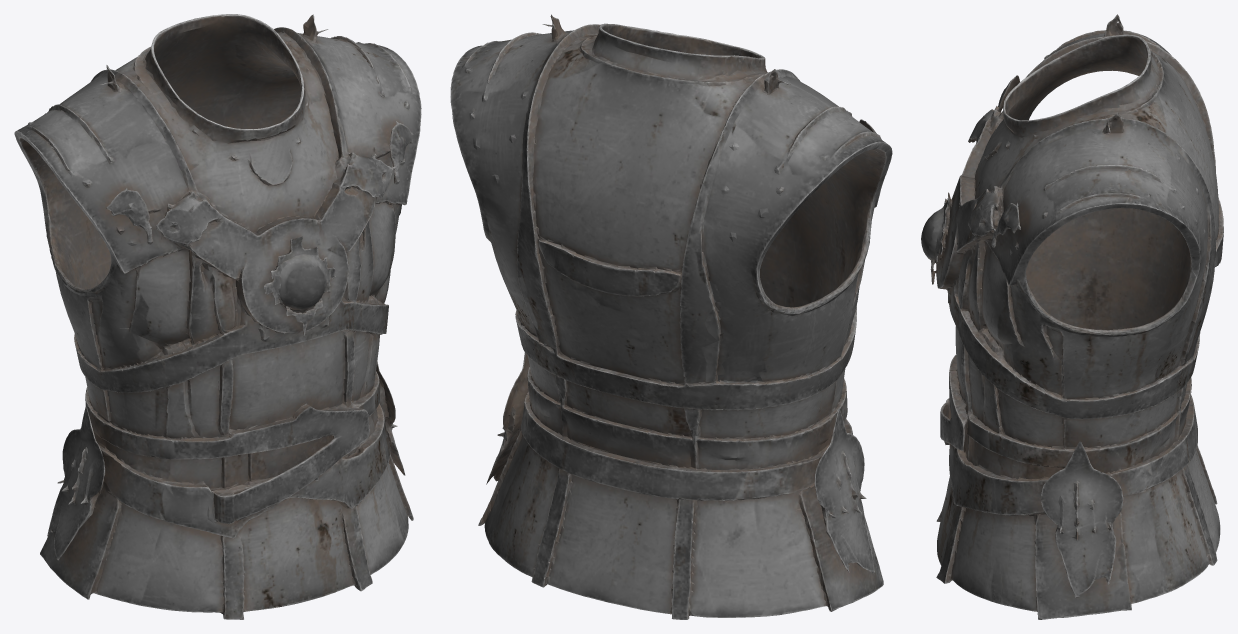
The model's file is SOURCE.fbx.
3 renders of one model, left to right at view 1: azimuth 30°, elevation 25°; view 2: azimuth 150°, elevation 25°; view 3: azimuth 270°, elevation 25°, orthographic. The views are drawn at different scales.
Parts seen in each view (by area): view 1: model; view 2: model; view 3: model.
Part boxes in pixels (x1=…): model: x1=14, y1=14, x2=421, y2=619; model: x1=450, y1=14, x2=892, y2=619; model: x1=921, y1=14, x2=1223, y2=619.
Size of the model in its own units: 144 by 190 by 105.
Materials: 1 (1 with a texture image).
